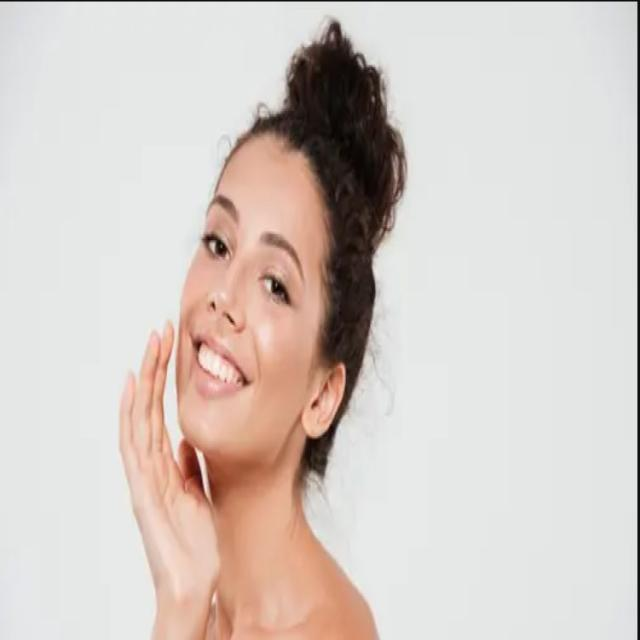Oily-Skin: (256, 309, 297, 419), (178, 400, 223, 453), (210, 258, 246, 324), (245, 159, 285, 218)
